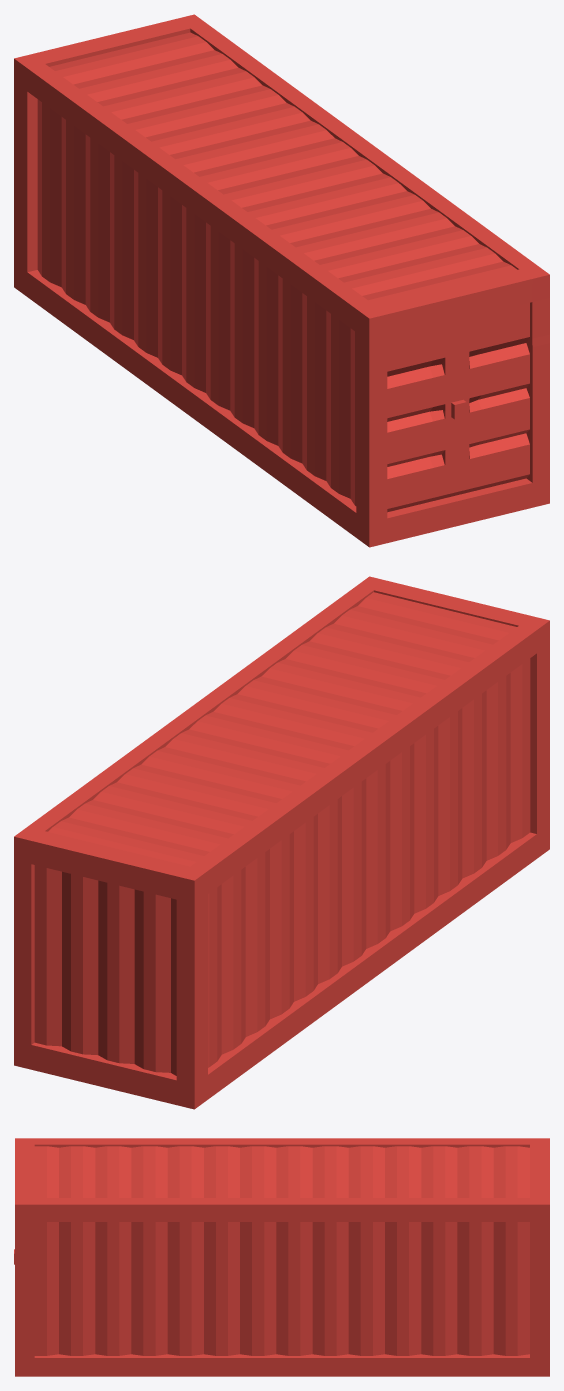
Rendered from ContenedorRojo.fbx.
3 renders of one model, top to bottom at view 1: azimuth 30°, elevation 25°; view 2: azimuth 150°, elevation 25°; view 3: azimuth 270°, elevation 25°, orthographic. The views are drawn at different scales.
Parts seen in each view (by area): view 1: Cubo; view 2: Cubo; view 3: Cubo.
Boxes of the visible parts, x1,y1,x2,y2 form: Cubo: [14, 14, 549, 547]; Cubo: [14, 576, 549, 1109]; Cubo: [14, 1138, 549, 1376].
Size of the model in its own units: 570 by 690 by 1947.
